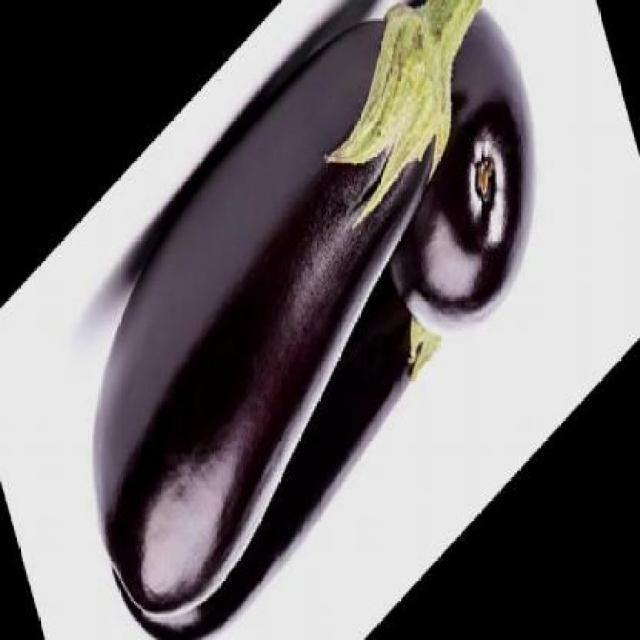eggplant: (57, 0, 574, 638), (48, 0, 563, 638)
